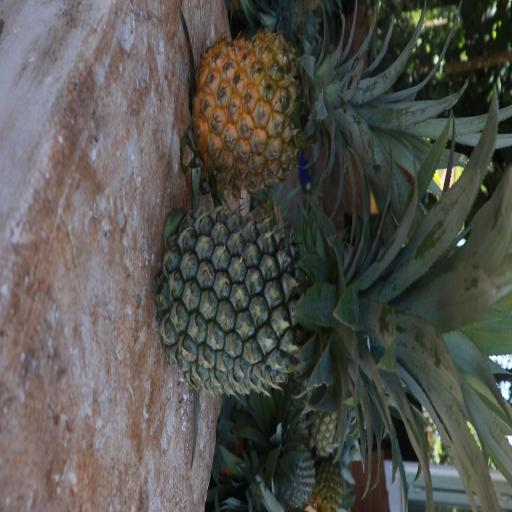Pineapple - v8 v1: (196, 32, 439, 186)
